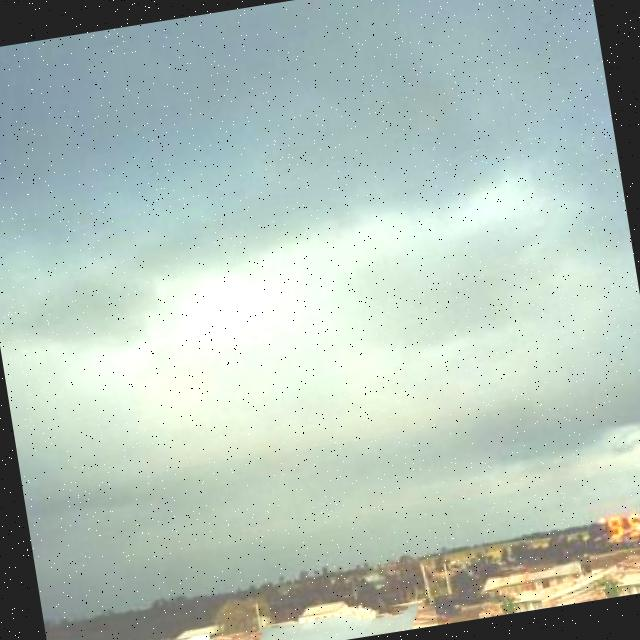Ns: (1, 73, 640, 522)
